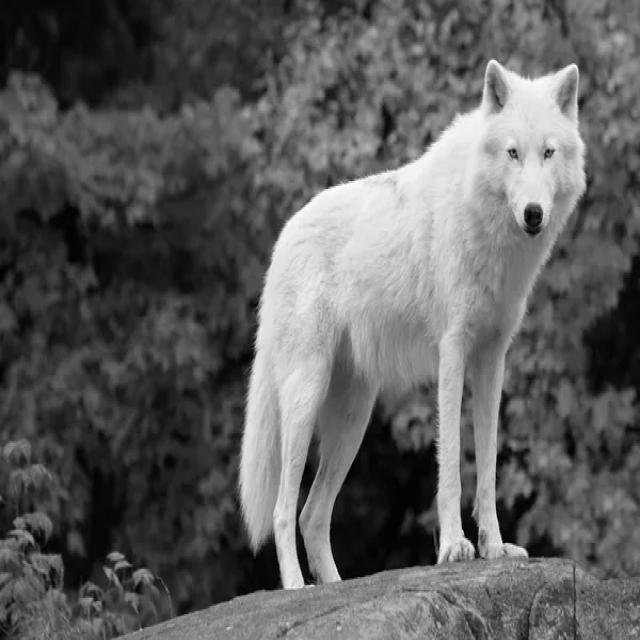Animal: (233, 55, 600, 588)
